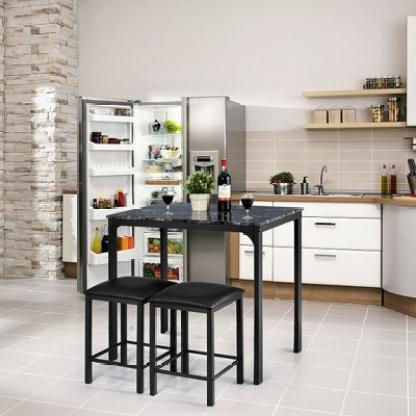chair: (147, 279, 254, 401), (79, 267, 150, 397)
table: (108, 204, 306, 362)
